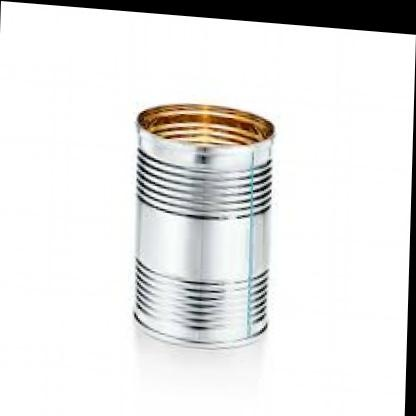trash: (134, 104, 274, 347)
